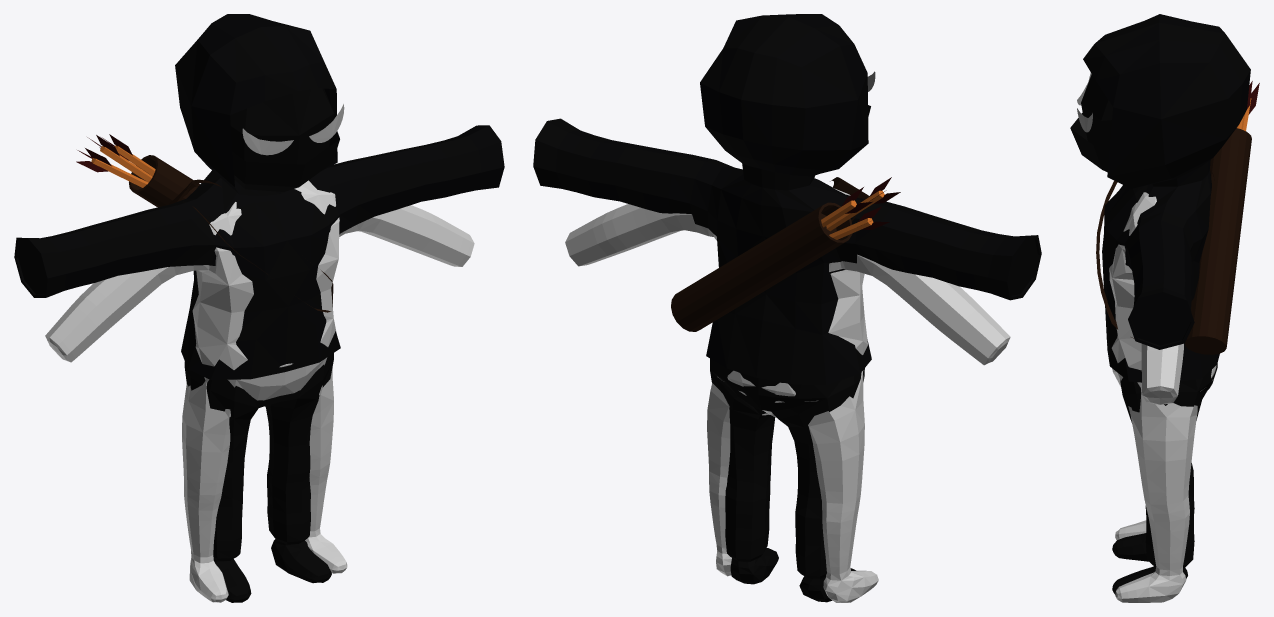
Rendered from ninja.obj.
3 renders of one model, left to right at view 1: azimuth 30°, elevation 25°; view 2: azimuth 150°, elevation 25°; view 3: azimuth 270°, elevation 25°, orthographic. The views are drawn at different scales.
Parts seen in each view (by area): view 1: Plane.004_Plane.003, Plane.001, Plane.002_Plane.000, Plane.003_Plane.002, Cylinder, Plane.000_Plane.006, Plane.005_Plane.004, Circle; view 2: Plane.004_Plane.003, Plane.001, Plane.002_Plane.000, Cylinder, Plane.005_Plane.004; view 3: Plane.004_Plane.003, Plane.001, Cylinder, Plane.002_Plane.000, Plane.003_Plane.002, Plane.005_Plane.004, Plane.000_Plane.006, Circle.
Part boxes in pixels (x1,y1,x2,y2): Plane.004_Plane.003: (14, 14, 504, 379); Plane.001: (45, 180, 474, 602); Plane.002_Plane.000: (184, 353, 333, 560); Plane.003_Plane.002: (230, 88, 334, 164); Cylinder: (76, 134, 333, 312); Plane.000_Plane.006: (232, 131, 339, 191); Plane.005_Plane.004: (213, 539, 331, 602); Circle: (242, 104, 344, 155); Plane.004_Plane.003: (533, 14, 1041, 385); Plane.001: (565, 188, 1010, 602); Plane.002_Plane.000: (710, 358, 864, 578); Cylinder: (671, 177, 900, 331); Plane.005_Plane.004: (730, 548, 855, 602); Plane.004_Plane.003: (1083, 14, 1250, 382); Plane.001: (1107, 192, 1216, 602); Cylinder: (1096, 81, 1259, 354); Plane.002_Plane.000: (1120, 363, 1217, 567); Plane.003_Plane.002: (1081, 74, 1112, 144); Plane.005_Plane.004: (1112, 533, 1187, 594); Plane.000_Plane.006: (1070, 113, 1109, 172); Circle: (1077, 72, 1092, 132).
Bounding box in the file's own units: 4.58 × 5.22 × 1.62.
